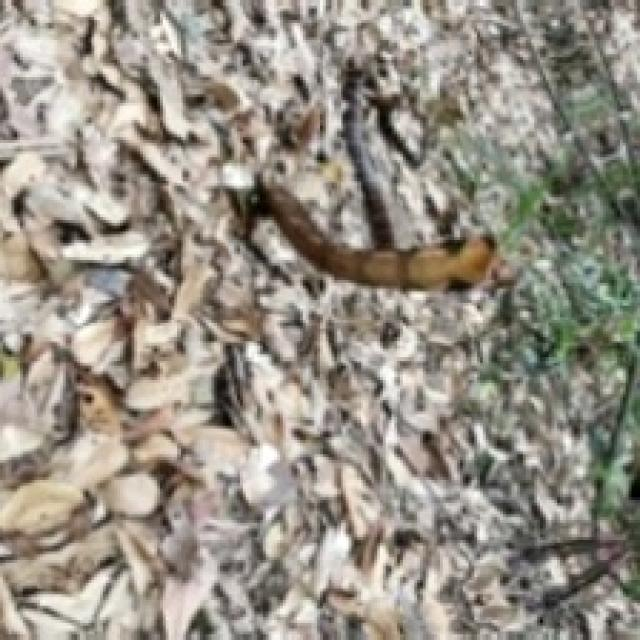king cobra: (257, 174, 509, 289)
